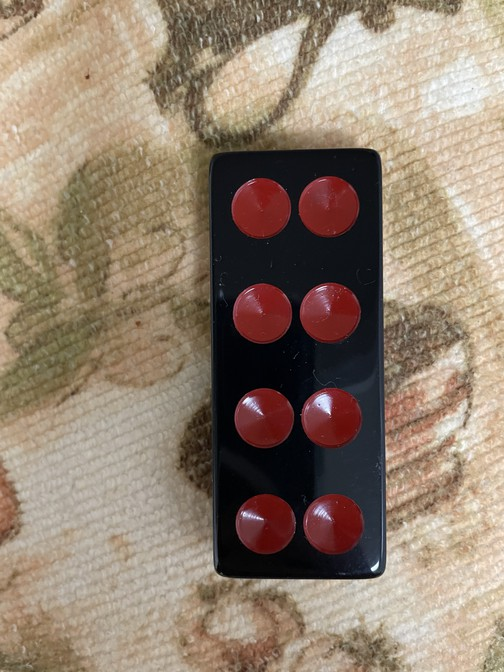man: (206, 150, 388, 580)
